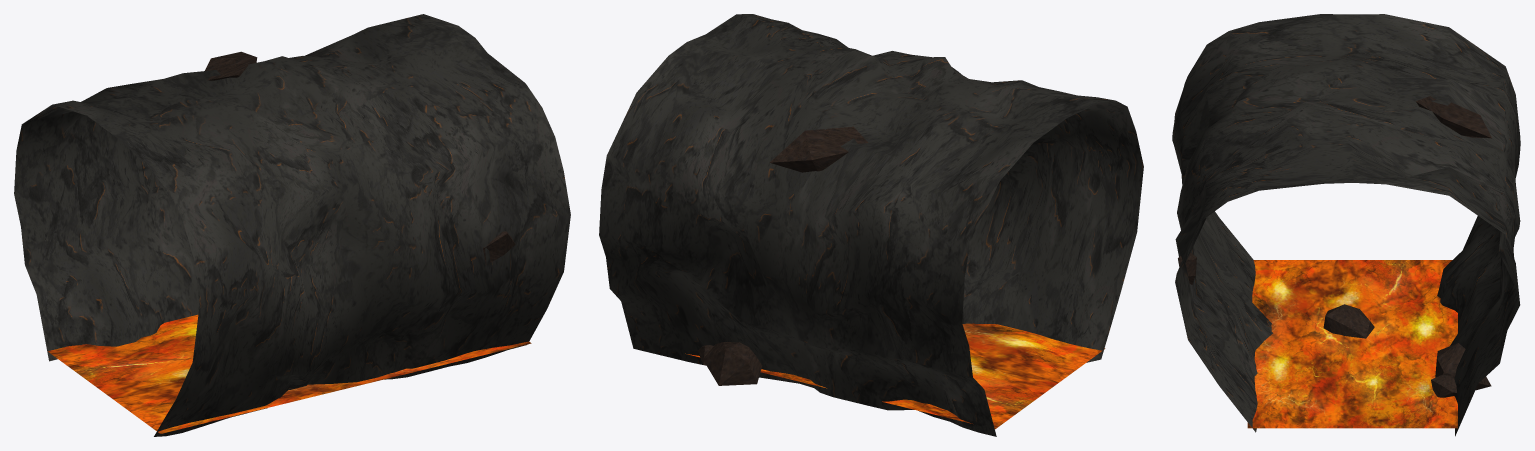
Rendered from Grot_2.fbx.
3 views of the same model, side by side, from view 1: azimuth 30°, elevation 25°; view 2: azimuth 150°, elevation 25°; view 3: azimuth 270°, elevation 25° (orthographic). The views are drawn at different scales.
Visible parts, largest first — view 1: Plane, Lava, Platonic, Platonic_3; view 2: Plane, Lava, Platonic, Platonic_1; view 3: Plane, Lava, Platonic, Platonic_4, Platonic_1, Platonic_2.
Part boxes in pixels (x1,y1,x2,y2): Plane: [14, 14, 570, 436]; Lava: [48, 314, 531, 433]; Platonic: [205, 51, 257, 80]; Platonic_3: [483, 231, 515, 264]; Plane: [599, 14, 1143, 436]; Lava: [685, 323, 1105, 429]; Platonic: [770, 126, 867, 172]; Platonic_1: [703, 342, 762, 385]; Plane: [1172, 14, 1520, 436]; Lava: [1247, 260, 1457, 428]; Platonic: [1416, 96, 1491, 138]; Platonic_4: [1323, 304, 1374, 338]; Platonic_1: [1435, 343, 1491, 390]; Platonic_2: [1431, 374, 1456, 397].
Size of the model in its own units: 764 by 560 by 663.
3 materials, 2 textured.
